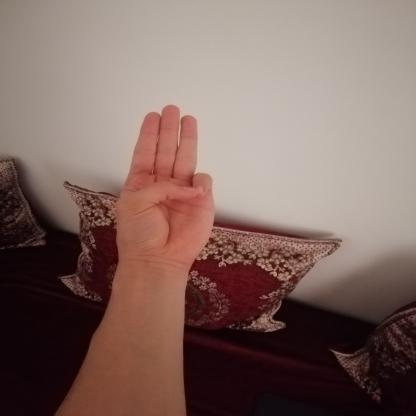THA: (97, 96, 228, 280)
